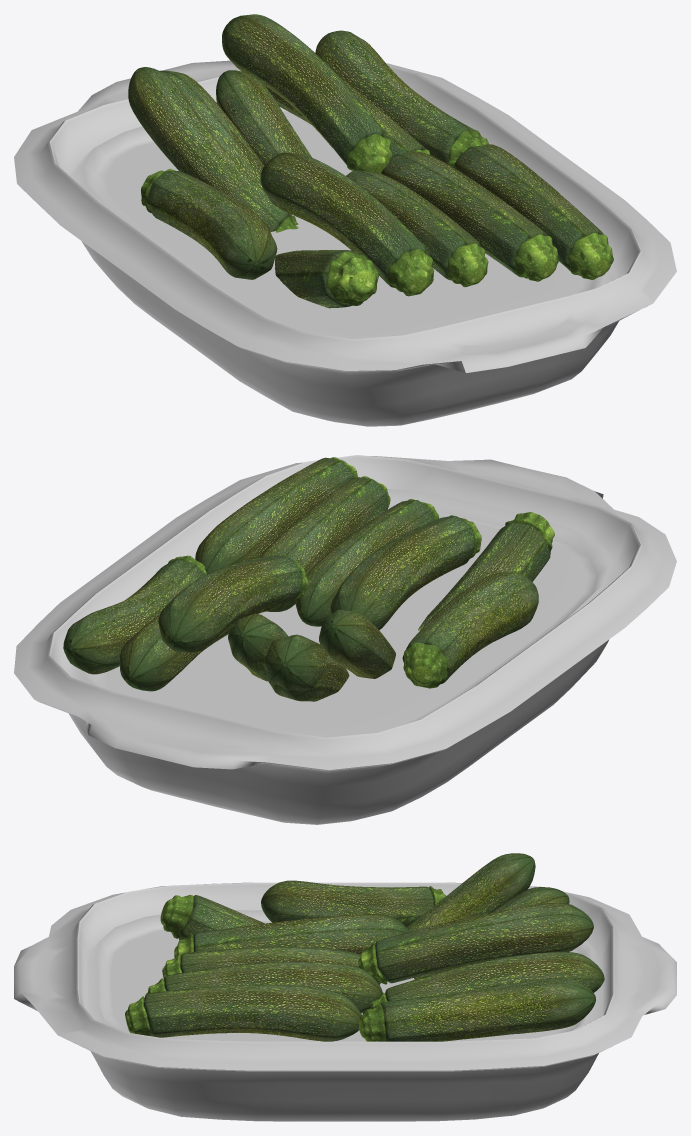
Rendered from zucchine.fbx.
3 views of the same model, one above another, from view 1: azimuth 30°, elevation 25°; view 2: azimuth 150°, elevation 25°; view 3: azimuth 270°, elevation 25° (orthographic). The views are drawn at different scales.
Visible parts, largest first — view 1: piatti_remesh_1, zucchino_11, zucchino_10, zucchino_1, zucchino_12, zucchino_9, zucchino, zucchino_5, zucchino_2, zucchino_3, zucchino_7, zucchino_13 (+2 smaller); view 2: piatti_remesh_1, zucchino_9, zucchino_11, zucchino_10, zucchino, zucchino_5, zucchino_1, zucchino_2, zucchino_3, zucchino_12, zucchino_6, zucchino_13 (+2 smaller); view 3: piatti_remesh_1, zucchino, zucchino_5, zucchino_11, zucchino_10, zucchino_9, zucchino_6, zucchino_1, zucchino_12, zucchino_2, zucchino_3, zucchino_13.
Boxes of the visible parts, x1,y1,x2,y2 form: piatti_remesh_1: (14,60,676,426); zucchino_11: (222,14,392,173); zucchino_10: (260,152,434,296); zucchino_1: (381,151,558,281); zucchino_12: (128,67,298,232); zucchino_9: (141,168,277,279); zucchino: (454,144,613,279); zucchino_5: (315,30,488,167); zucchino_2: (346,170,488,287); zucchino_3: (275,250,378,308); zucchino_7: (216,70,312,165); zucchino_13: (160,70,264,166); piatti_remesh_1: (14,455,676,824); zucchino_9: (402,572,538,688); zucchino_11: (158,555,308,652); zucchino_10: (330,515,481,630); zucchino: (195,457,357,574); zucchino_5: (63,555,206,674); zucchino_1: (259,476,390,611); zucchino_2: (295,499,438,626); zucchino_3: (418,512,554,630); zucchino_12: (319,609,395,678); zucchino_6: (119,615,233,691); zucchino_13: (263,634,328,690); piatti_remesh_1: (14,882,676,1121); zucchino: (125,985,361,1041); zucchino_5: (359,977,595,1041); zucchino_11: (358,903,593,984); zucchino_10: (174,914,409,957); zucchino_9: (261,880,445,927); zucchino_6: (370,952,604,1009); zucchino_1: (145,962,382,1013); zucchino_12: (407,853,535,931); zucchino_2: (162,946,380,984); zucchino_3: (160,895,264,940); zucchino_13: (492,887,569,912).
Size of the model in its own units: 26.93 by 11.64 by 40.09.
